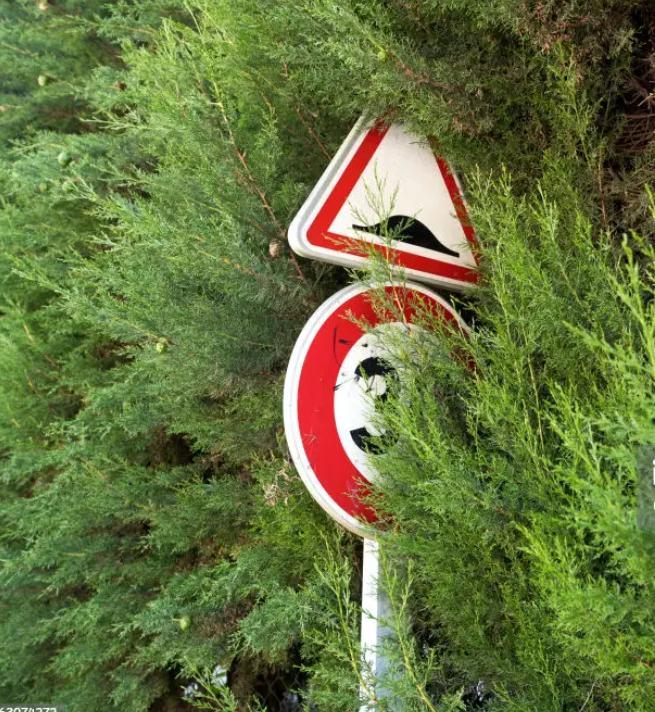obstructed_road_sign: (281, 277, 478, 545), (288, 97, 490, 294), (477, 548, 490, 554)
